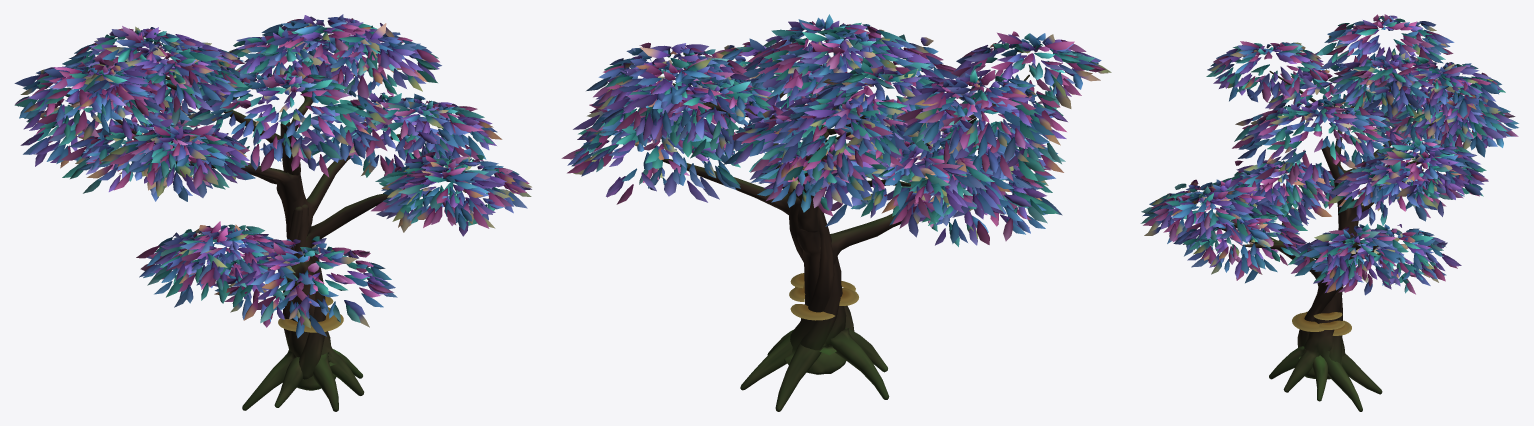
The model's file is tree_giant.glb.
3 renders of one model, left to right at view 1: azimuth 30°, elevation 25°; view 2: azimuth 150°, elevation 25°; view 3: azimuth 270°, elevation 25°, orthographic. The views are drawn at different scales.
Visible parts, largest first — view 1: tree_giant; view 2: tree_giant; view 3: tree_giant.
Boxes of the visible parts, <box> form: tree_giant: <box>14,14,531,411</box>; tree_giant: <box>561,14,1111,411</box>; tree_giant: <box>1140,14,1518,411</box>.
Bounding box in the file's own units: 13.19 × 9.8 × 11.51.
